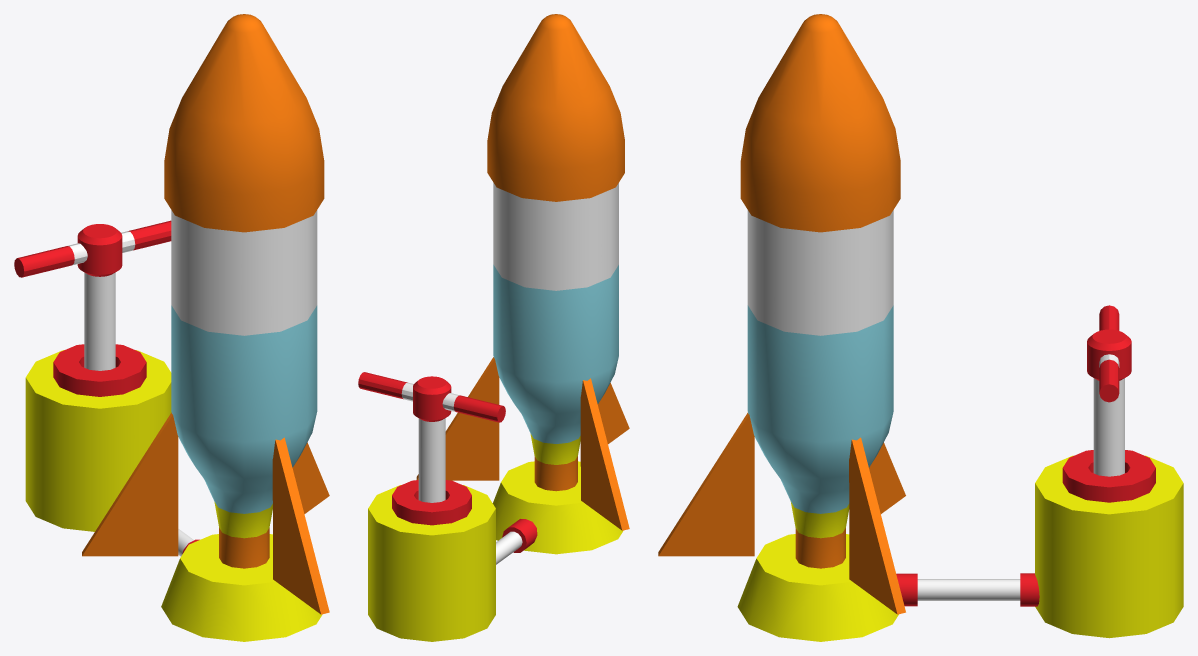
The model's file is rocket_pump.fbx.
3 views of the same model, side by side, from view 1: azimuth 30°, elevation 25°; view 2: azimuth 150°, elevation 25°; view 3: azimuth 270°, elevation 25° (orthographic). The views are drawn at different scales.
Visible parts, largest first — view 1: rocket, pump, pump.handle; view 2: rocket, pump, pump.handle; view 3: rocket, pump, pump.handle.
Boxes of the visible parts, box(x1,y1,x2,y2) form: rocket: box(82, 14, 329, 614); pump: box(25, 344, 322, 641); pump.handle: box(14, 220, 171, 370); rocket: box(416, 14, 629, 530); pump: box(368, 461, 623, 641); pump.handle: box(358, 372, 505, 502); rocket: box(658, 14, 905, 614); pump: box(737, 450, 1183, 641); pump.handle: box(1087, 305, 1131, 476).
Size of the model in its own units: 0.2275 by 0.5174 by 0.4177.
Materials: 1 (1 with a texture image).
